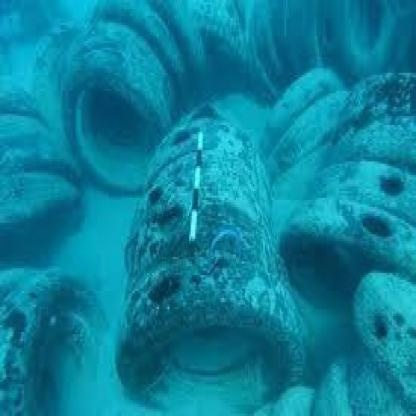tire: (142, 248, 284, 416), (290, 186, 416, 318), (68, 55, 176, 186)
